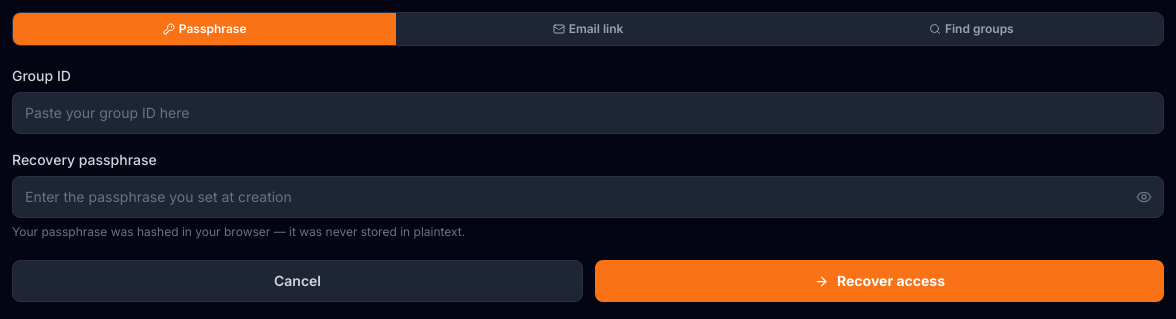
Test: RecoverAdminForm › switches to find groups tab and shows find email input
Click the button "Find groups" at (971, 29), box 780,13 -> 1163,45
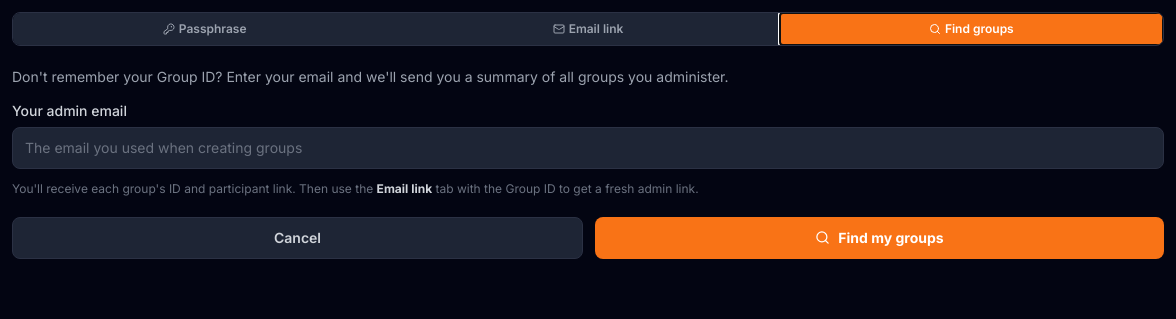
expect the field with placeholder "The email you used when creating groups" is shown: met, box 12,127 -> 1164,169
